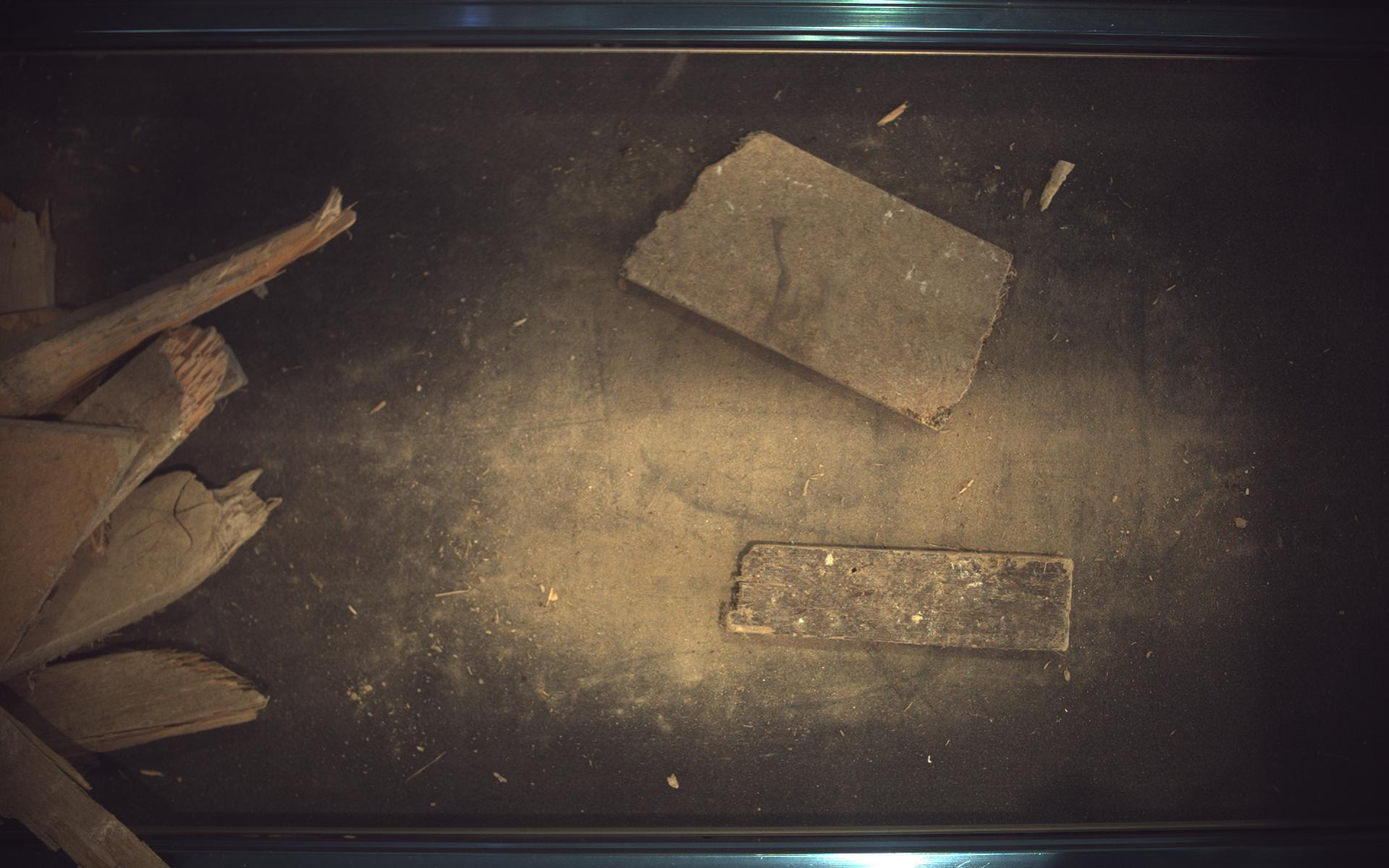wood: (624, 131, 1014, 430), (723, 544, 1076, 652)
